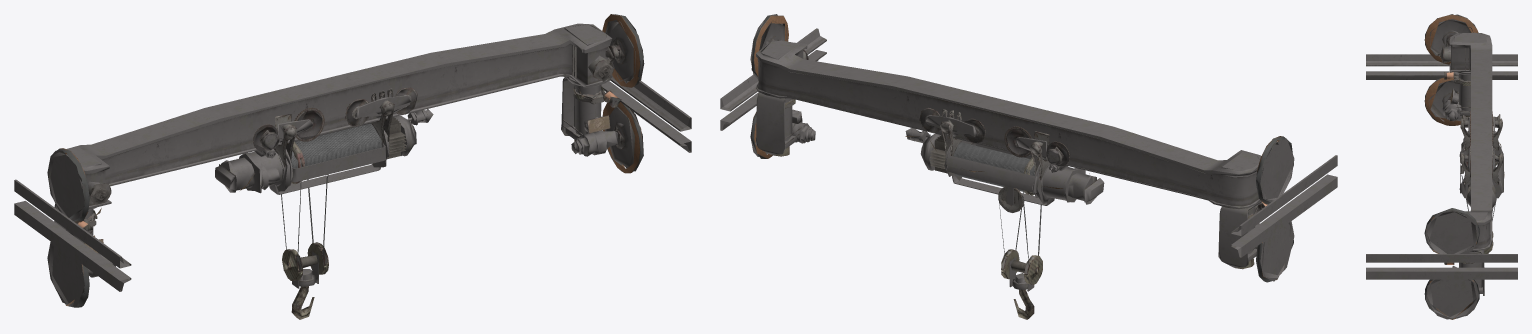
The model's file is overhead_crane.slim.glb.
3 views of the same model, side by side, from view 1: azimuth 30°, elevation 25°; view 2: azimuth 150°, elevation 25°; view 3: azimuth 270°, elevation 25° (orthographic). The views are drawn at different scales.
Size of the model in its own units: 12.49 by 5.12 by 4.
2 materials, 2 textured.
